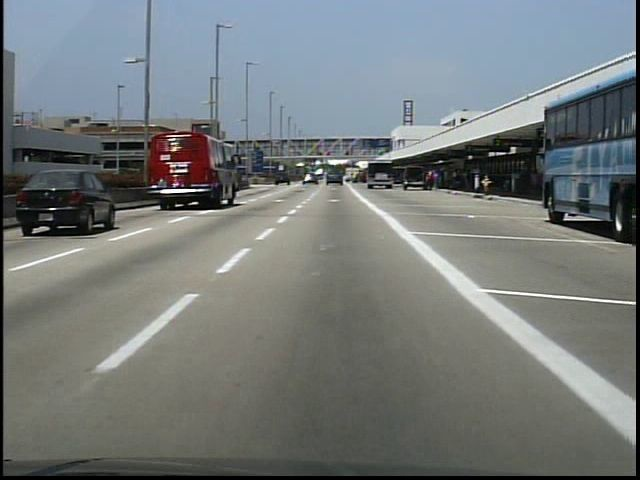person: (428, 174, 436, 196)
